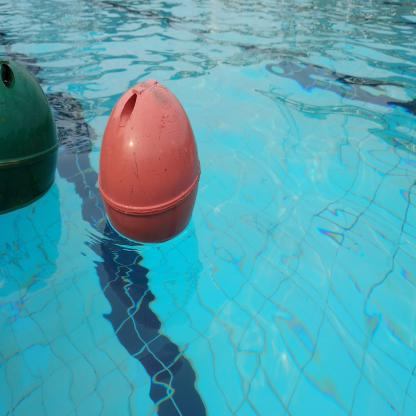green_buoy: (0, 40, 62, 227)
red_buoy: (94, 68, 207, 261)
